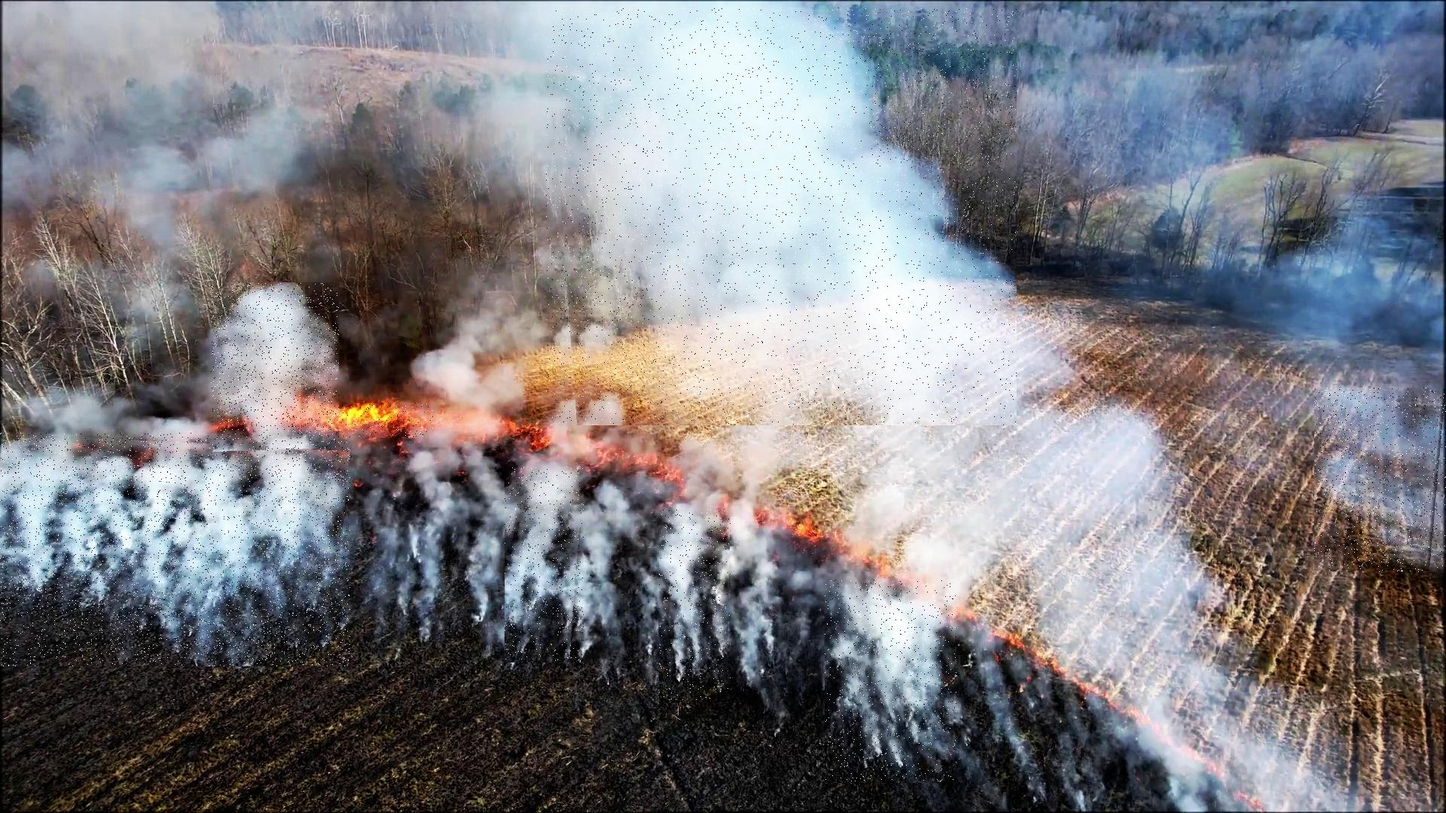fire: (313, 403, 433, 437)
smoke: (546, 8, 1017, 425), (0, 433, 350, 666), (825, 580, 956, 783), (1314, 388, 1446, 572), (211, 282, 339, 452), (505, 467, 584, 662), (659, 508, 731, 700)
